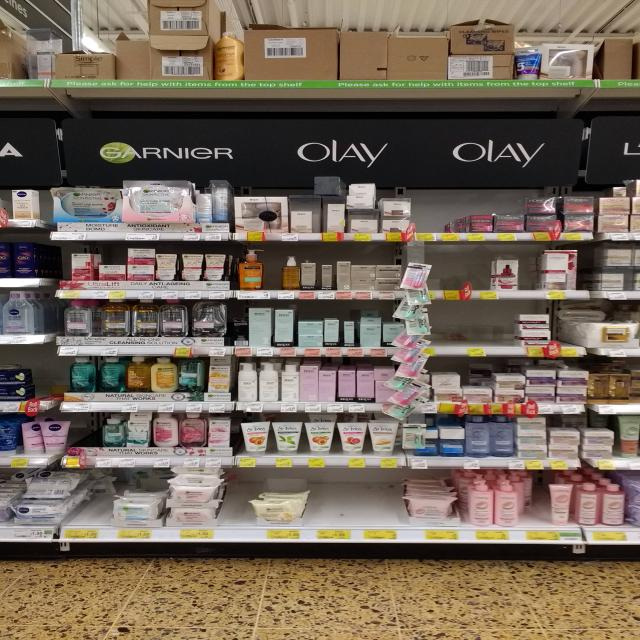empty: (308, 471, 400, 530), (429, 307, 522, 348), (429, 248, 490, 292), (76, 472, 112, 527), (416, 201, 464, 236), (221, 473, 248, 523), (260, 247, 284, 287), (520, 248, 539, 287)
